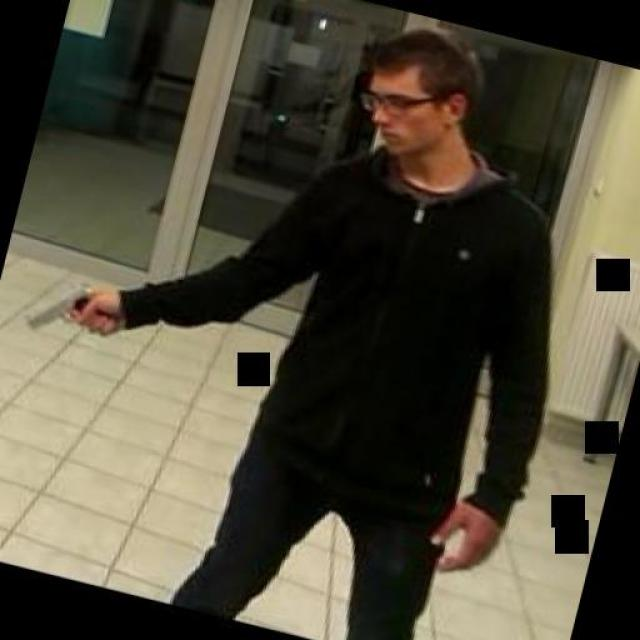gun: (18, 264, 120, 348)
